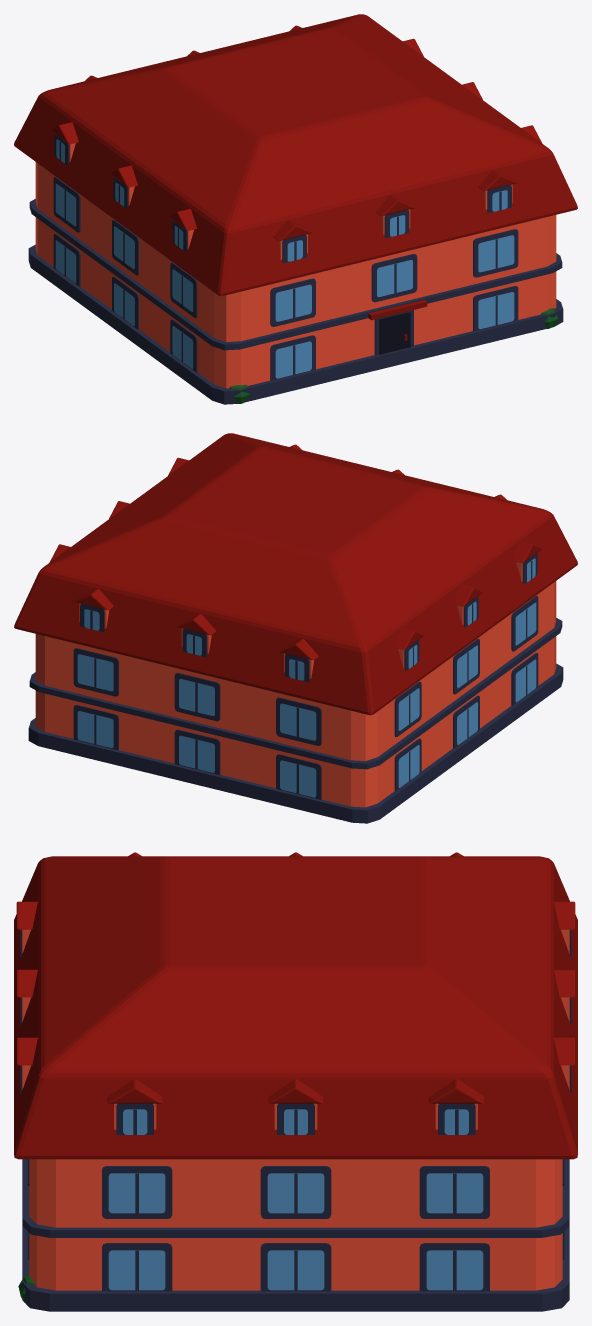
The model's file is house-2x2-2f-mansard-c.glb.
The picture shows the model from 3 angles, top to bottom: view 1: azimuth 30°, elevation 25°; view 2: azimuth 150°, elevation 25°; view 3: azimuth 270°, elevation 25°; orthographic projection. The views are drawn at different scales.
Visible parts, largest first — view 1: house-2x2-2f-mansard-c; view 2: house-2x2-2f-mansard-c; view 3: house-2x2-2f-mansard-c.
Part boxes in pixels (x1,y1,x2,y2): house-2x2-2f-mansard-c: (14,14,577,404); house-2x2-2f-mansard-c: (14,433,577,823); house-2x2-2f-mansard-c: (14,852,577,1311).
Bounding box in the file's own units: 1.99 × 1.11 × 1.99.
Materials: 1 (1 with a texture image).
